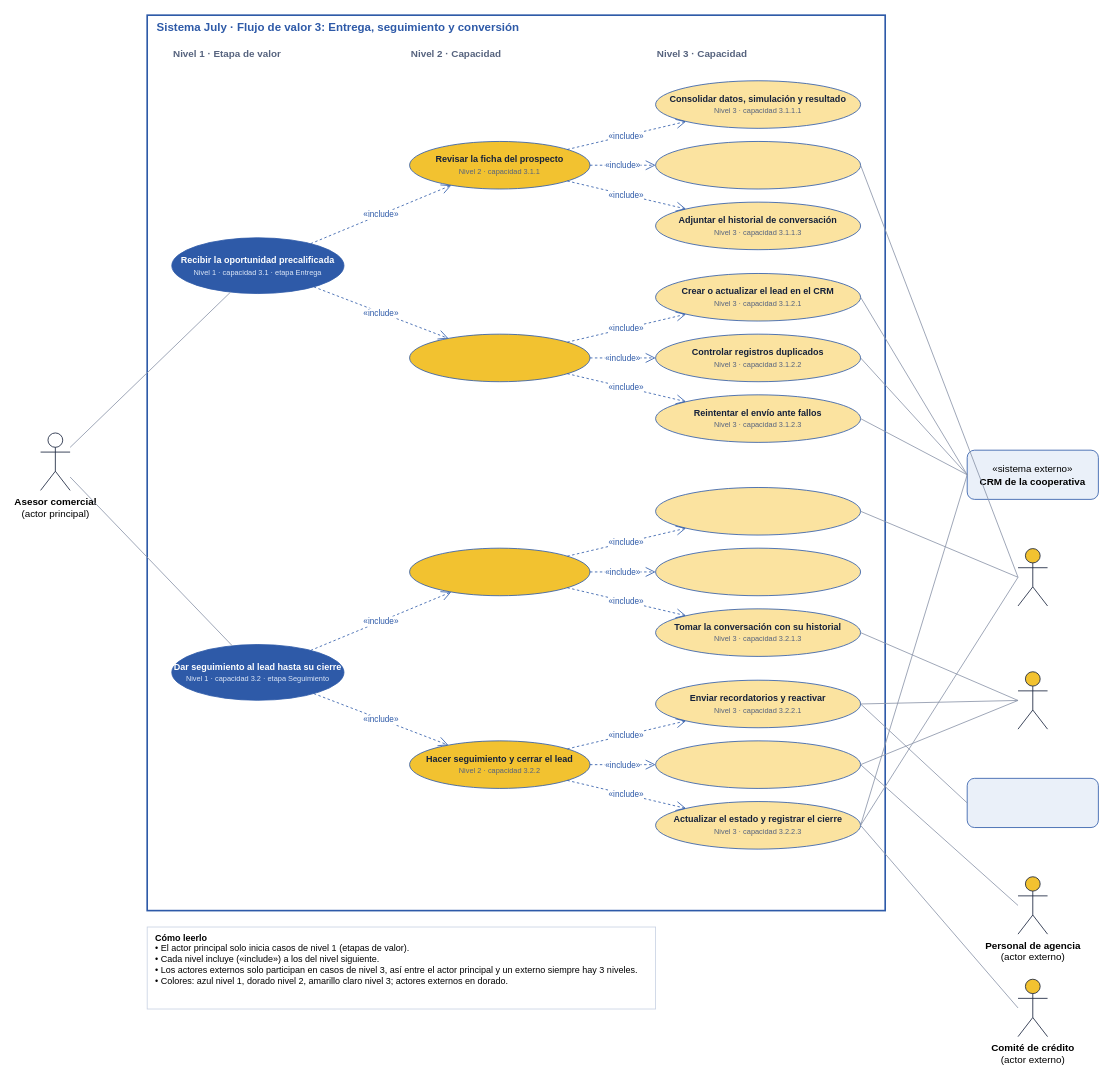
Image size: 1113x1080. Some labels were removed from this diagram. The shapes that lost their labels are listed below. From the top down, each one's centre as x and y in pixels, then its label:
(758,165): Priorizar el lead (caliente, tibio, frío) Nivel 3 · capacidad 3.1.1.2
(499,357): Registrar el lead en el CRM Nivel 2 · capacidad 3.1.2
(758,511): Enrutar por agencia, producto o carga Nivel 3 · capacidad 3.2.1.1
(499,571): Recibir el lead asignado Nivel 2 · capacidad 3.2.1
(758,571): Notificar al asesor del lead nuevo Nivel 3 · capacidad 3.2.1.2
(1032,577): Jefe comercial (actor externo)
(1032,700): Prospecto (actor externo)
(758,764): Confirmar la cita en agencia Nivel 3 · capacidad 3.2.2.2
(1032,803): «sistema externo» WhatsApp Business API
